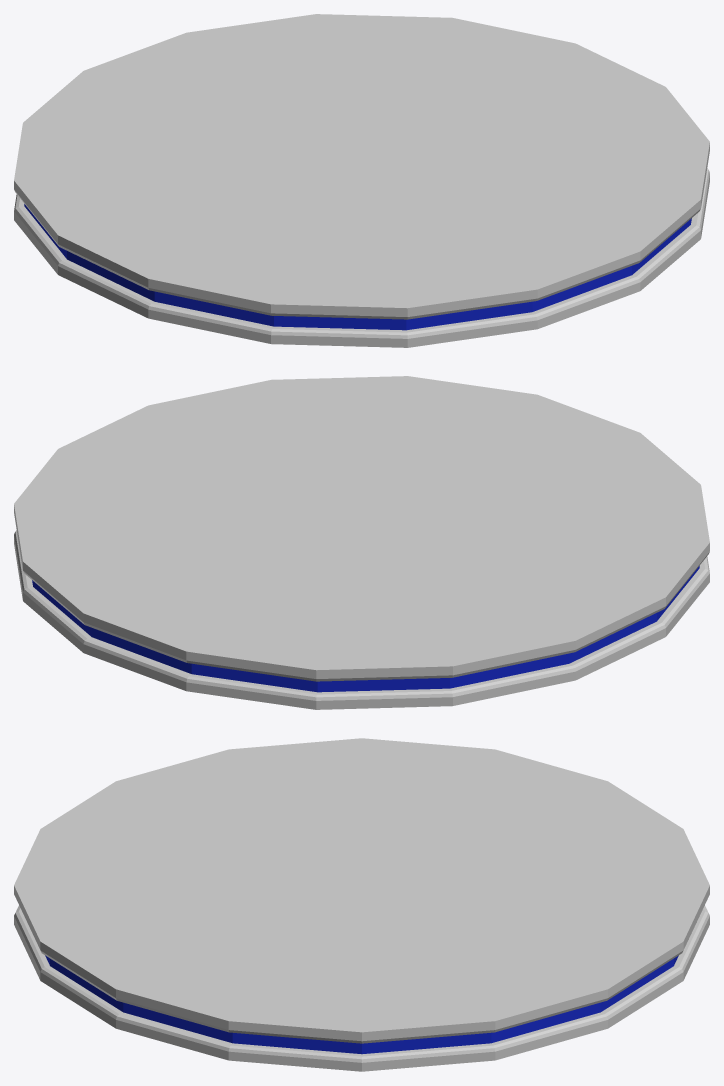
The model's file is teleport.fbx.
3 renders of one model, top to bottom at view 1: azimuth 30°, elevation 25°; view 2: azimuth 150°, elevation 25°; view 3: azimuth 270°, elevation 25°, orthographic.
Visible parts, largest first — view 1: teleport; view 2: teleport; view 3: teleport.
Part boxes in pixels (box(x1,y1,x2,y2)): teleport: box(14, 14, 709, 347); teleport: box(14, 376, 709, 709); teleport: box(14, 738, 709, 1071).
Bounding box in the file's own units: 2 × 0.125 × 2.
